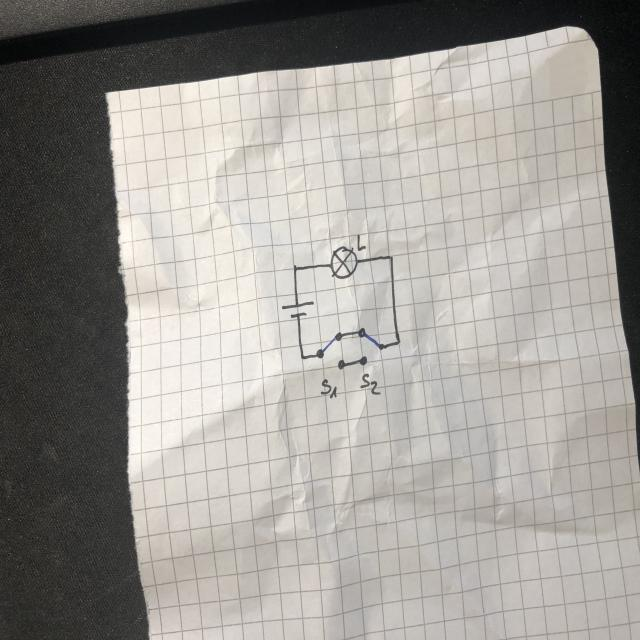junction: (290, 262, 300, 274), (385, 252, 395, 264), (394, 336, 404, 348), (298, 350, 308, 362)
source: (280, 300, 316, 320)
switch: (314, 330, 346, 371), (354, 327, 386, 368)
text: (359, 373, 381, 397), (318, 374, 339, 398), (355, 233, 368, 252)
